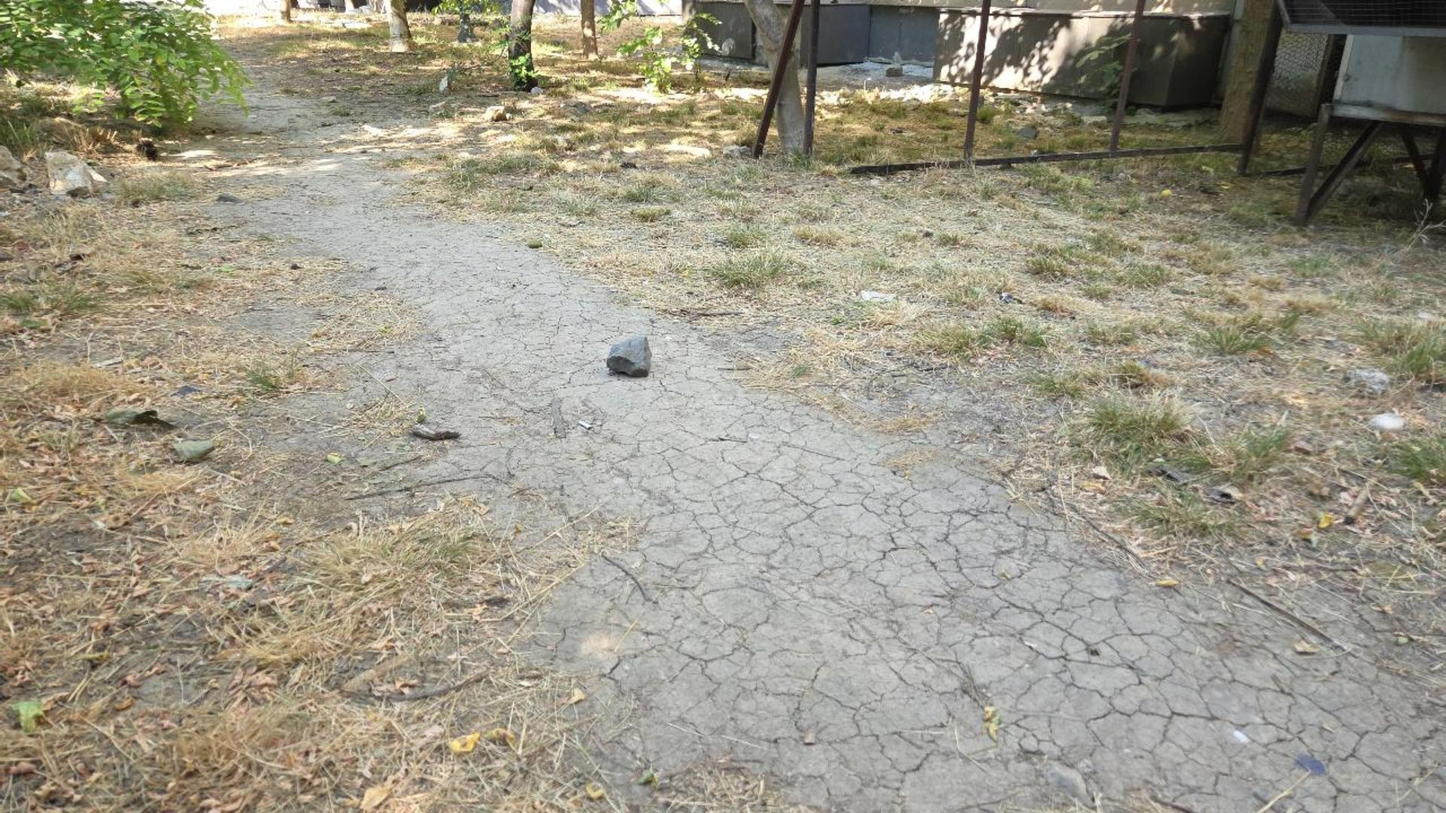rock: (44, 151, 106, 196), (607, 337, 651, 378), (0, 145, 27, 185), (1347, 368, 1390, 393), (1369, 412, 1404, 432), (484, 105, 507, 122), (886, 64, 903, 77)
